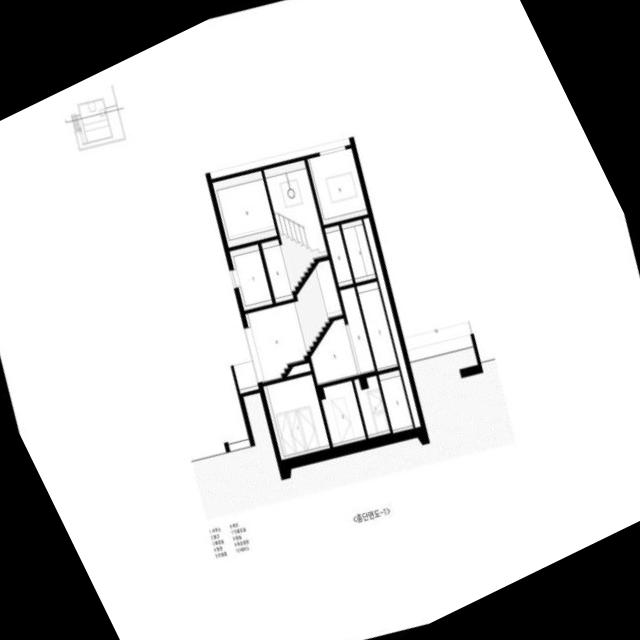background: (0, 0, 640, 640)
space_bedroom: (211, 170, 276, 247)
space_front: (244, 300, 310, 382)
space_multipurpose_space: (228, 243, 272, 310)
space_other: (362, 217, 420, 427), (262, 373, 329, 460), (306, 147, 367, 225), (355, 280, 397, 371), (310, 318, 357, 385), (339, 286, 374, 374), (320, 380, 365, 447), (353, 375, 390, 438), (260, 238, 293, 302), (324, 224, 352, 287), (286, 362, 310, 376)
space_staircase: (263, 159, 327, 291), (296, 259, 342, 346)
space_toilet: (340, 218, 375, 282), (378, 369, 413, 433)
